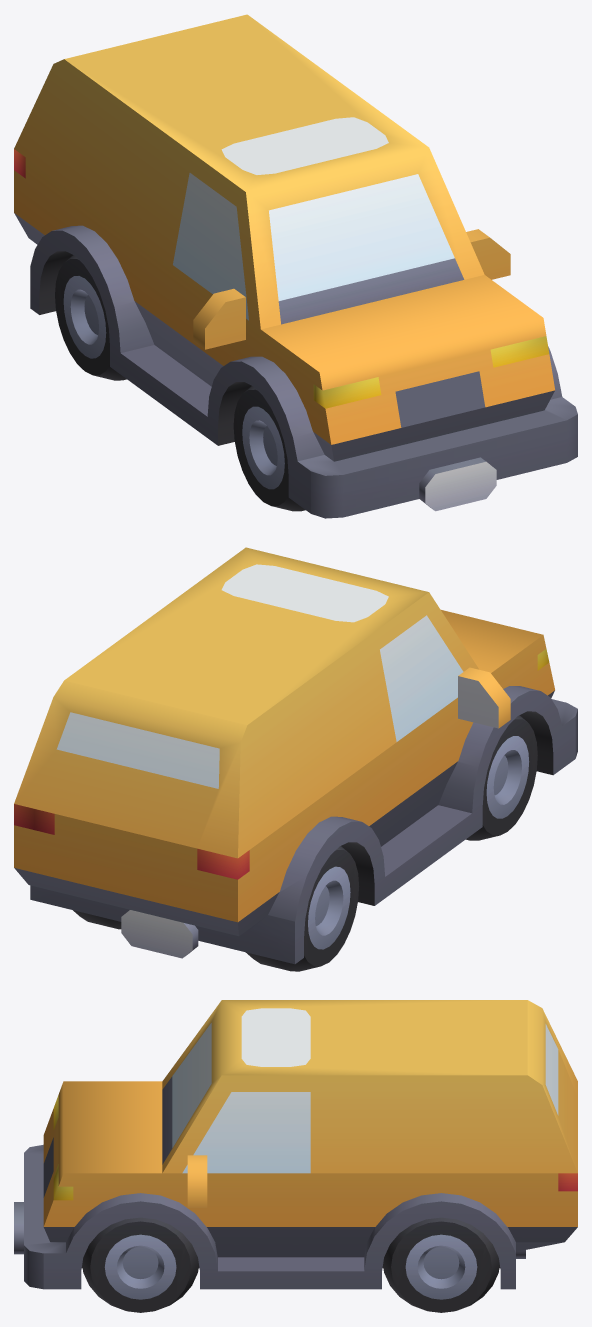
Rendered from mod-suv-luxo.gltf.
The picture shows the model from 3 angles, top to bottom: view 1: azimuth 30°, elevation 25°; view 2: azimuth 150°, elevation 25°; view 3: azimuth 270°, elevation 25°; orthographic projection. The views are drawn at different scales.
Visible parts, largest first — view 1: wheel-back-right; view 2: wheel-back-right; view 3: wheel-back-right.
Boxes of the visible parts, x1,y1,x2,y2 form: wheel-back-right: (14, 14, 577, 518); wheel-back-right: (14, 547, 577, 971); wheel-back-right: (14, 1000, 577, 1312).
Bounding box in the file's own units: 1.44 × 1.25 × 2.74.
Materials: 1 (1 with a texture image).
